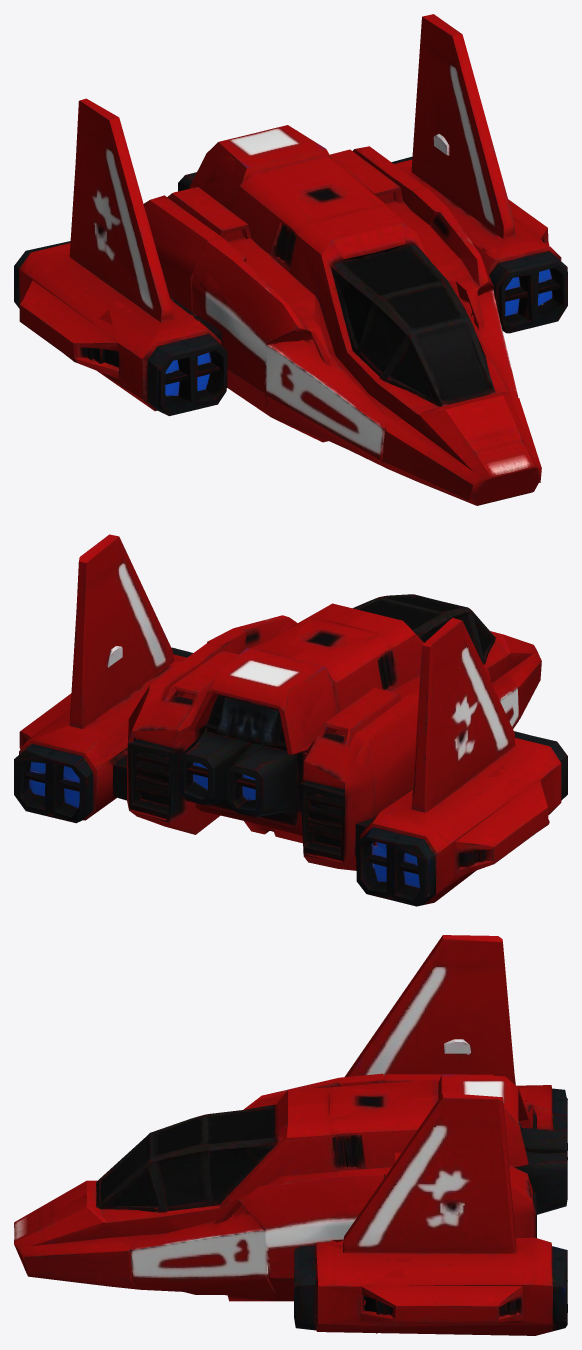
File: nave_24.obj
3 views of the same model, one above another, from view 1: azimuth 30°, elevation 25°; view 2: azimuth 150°, elevation 25°; view 3: azimuth 270°, elevation 25° (orthographic). The views are drawn at different scales.
Visible parts, largest first — view 1: geometry_0; view 2: geometry_0; view 3: geometry_0.
Boxes of the visible parts, x1,y1,x2,y2 form: geometry_0: (14, 14, 567, 505); geometry_0: (14, 534, 567, 906); geometry_0: (14, 935, 567, 1335).
Bounding box in the file's own units: 6.55 × 3.67 × 7.
1 material, 1 textured.
